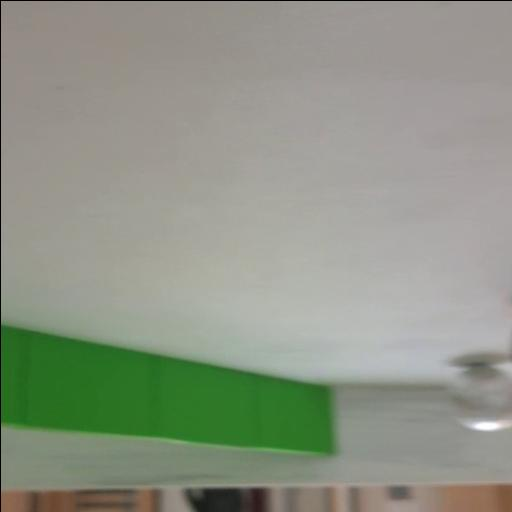alive: (442, 360, 512, 432)
